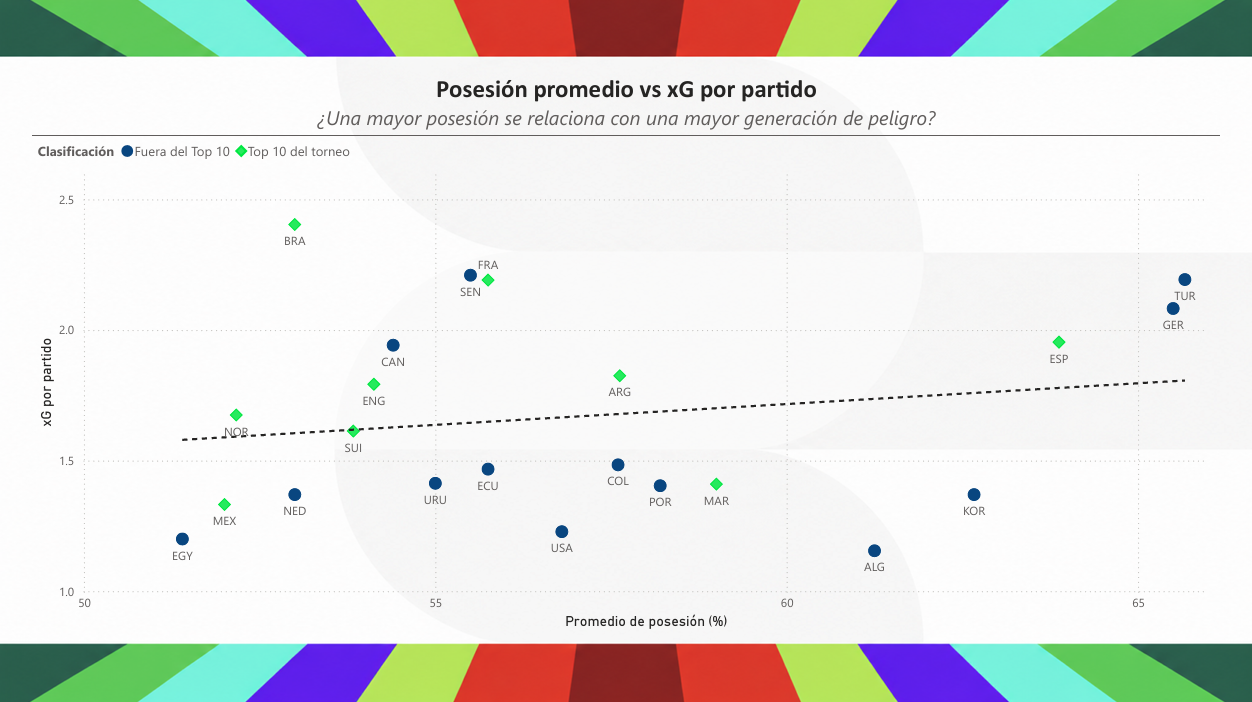

This screenshot's page, from the dashboard's own definition file:
{"tool":"powerbi","page":{"name":"pos vs xg","canvas":[1280,720],"ordinal":0},"visuals":[{"type":"scatterChart","title":"Posesión promedio vs xG por partido","fields":{"Category":["vista_actuaciones_detalle_202607232021.id_equipo"],"X":["Avg(vista_actuaciones_detalle_202607232021.posesion)"],"Y":["vista_actuaciones_detalle_202607232021.xg_favor"],"Series":["_SELECT_ea_id_equipo_e_seleccion_COUNT_AS_partidos_jugados_SUM_C_202608142350.Grupo visual"]},"box":[34.6,74.9,1209.6,570.2],"z":0}]}

Visuals, with their boxes in screenshot pixels (x1, y1, x2, y2), scaled from the page's 1280x720 canvas onto the 1252x702 screenshot:
"Posesión promedio vs xG por partido" scatterChart: [left=34, top=73, right=1217, bottom=629]
